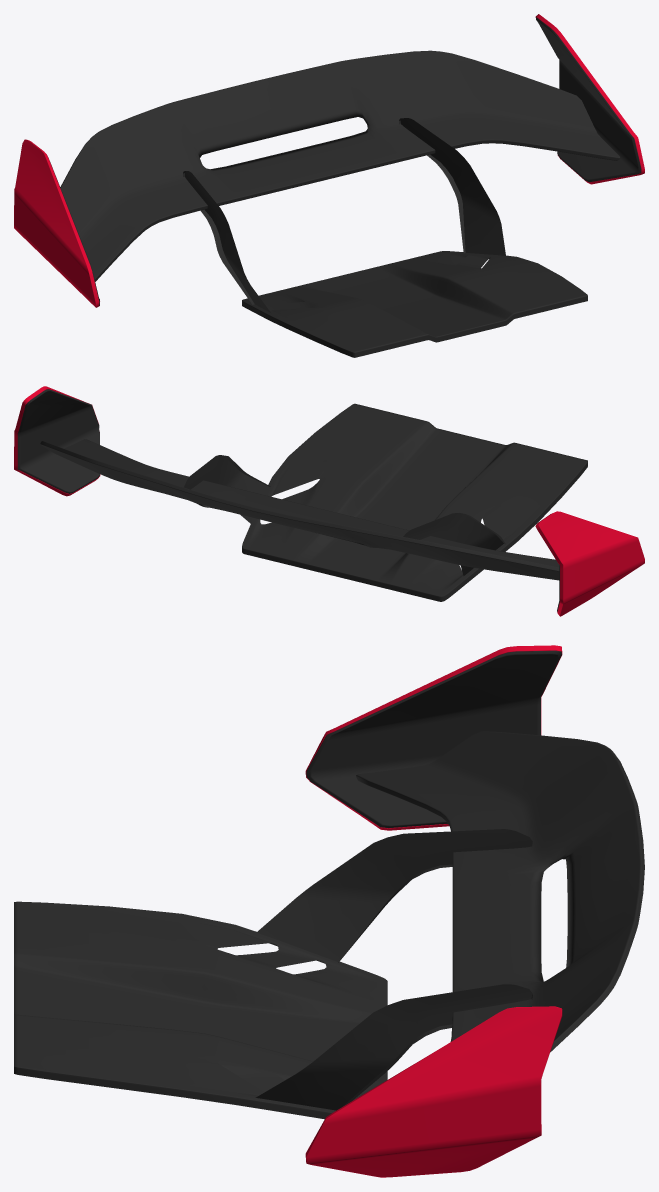
File: wing.glb
The picture shows the model from 3 angles, top to bottom: view 1: azimuth 30°, elevation 25°; view 2: azimuth 150°, elevation 25°; view 3: azimuth 270°, elevation 25°; orthographic projection. The views are drawn at different scales.
Visible parts, largest first — view 1: APR_GTC500_Wing; view 2: APR_GTC500_Wing; view 3: APR_GTC500_Wing.
Boxes of the visible parts, x1,y1,x2,y2 form: APR_GTC500_Wing: (14,14,644,357); APR_GTC500_Wing: (14,386,644,616); APR_GTC500_Wing: (14,645,644,1177).
Bounding box in the file's own units: 1.8 × 0.5033 × 1.24.
